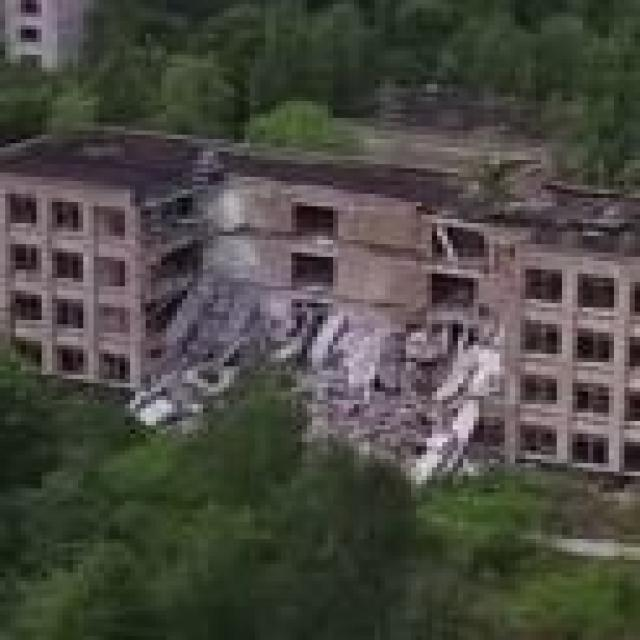collapsed_building: (187, 164, 479, 501)
